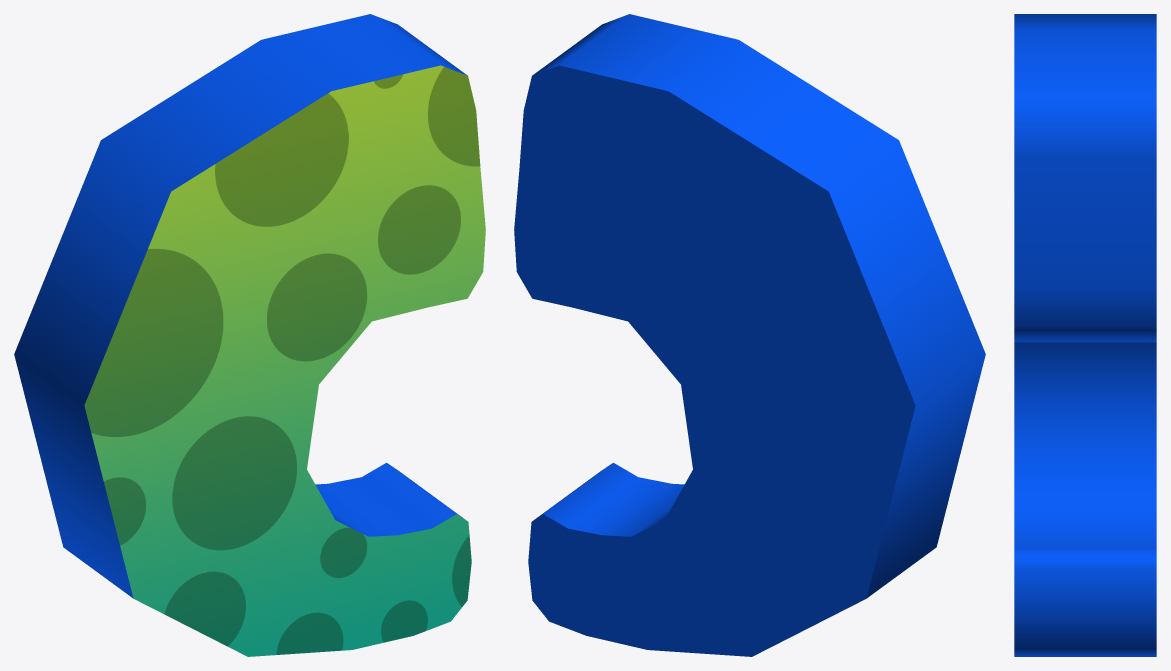
3 renders of one model, left to right at view 1: azimuth 30°, elevation 25°; view 2: azimuth 150°, elevation 25°; view 3: azimuth 270°, elevation 25°, orthographic.
Parts seen in each view (by area): view 1: C; view 2: C; view 3: C.
Boxes of the visible parts, left/top/right/bottom form: C: left=14, top=14, right=485, bottom=656; C: left=514, top=14, right=985, bottom=656; C: left=1014, top=14, right=1156, bottom=656.
Bounding box in the file's own units: 65.98 × 88.68 × 20.
2 materials, 1 textured.
